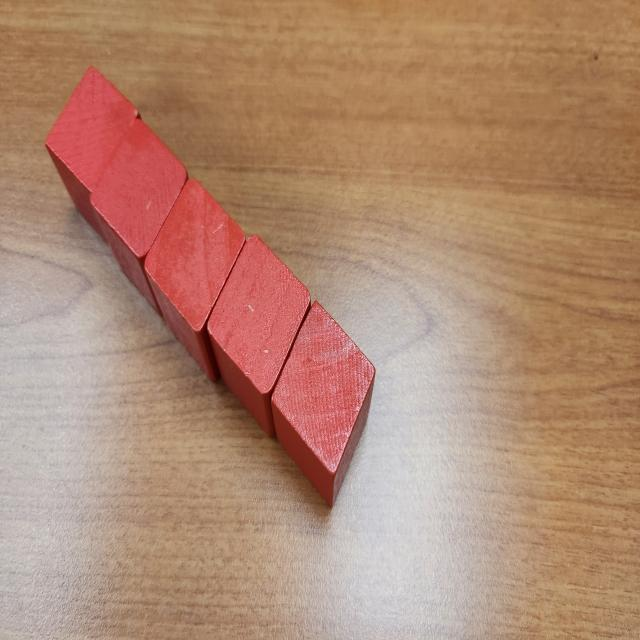red: (271, 300, 376, 510), (206, 234, 312, 440), (144, 177, 246, 384), (89, 120, 187, 317), (45, 65, 143, 242)
